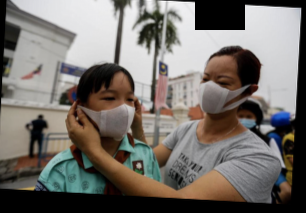with_mask: (88, 86, 136, 139), (196, 69, 241, 116)
